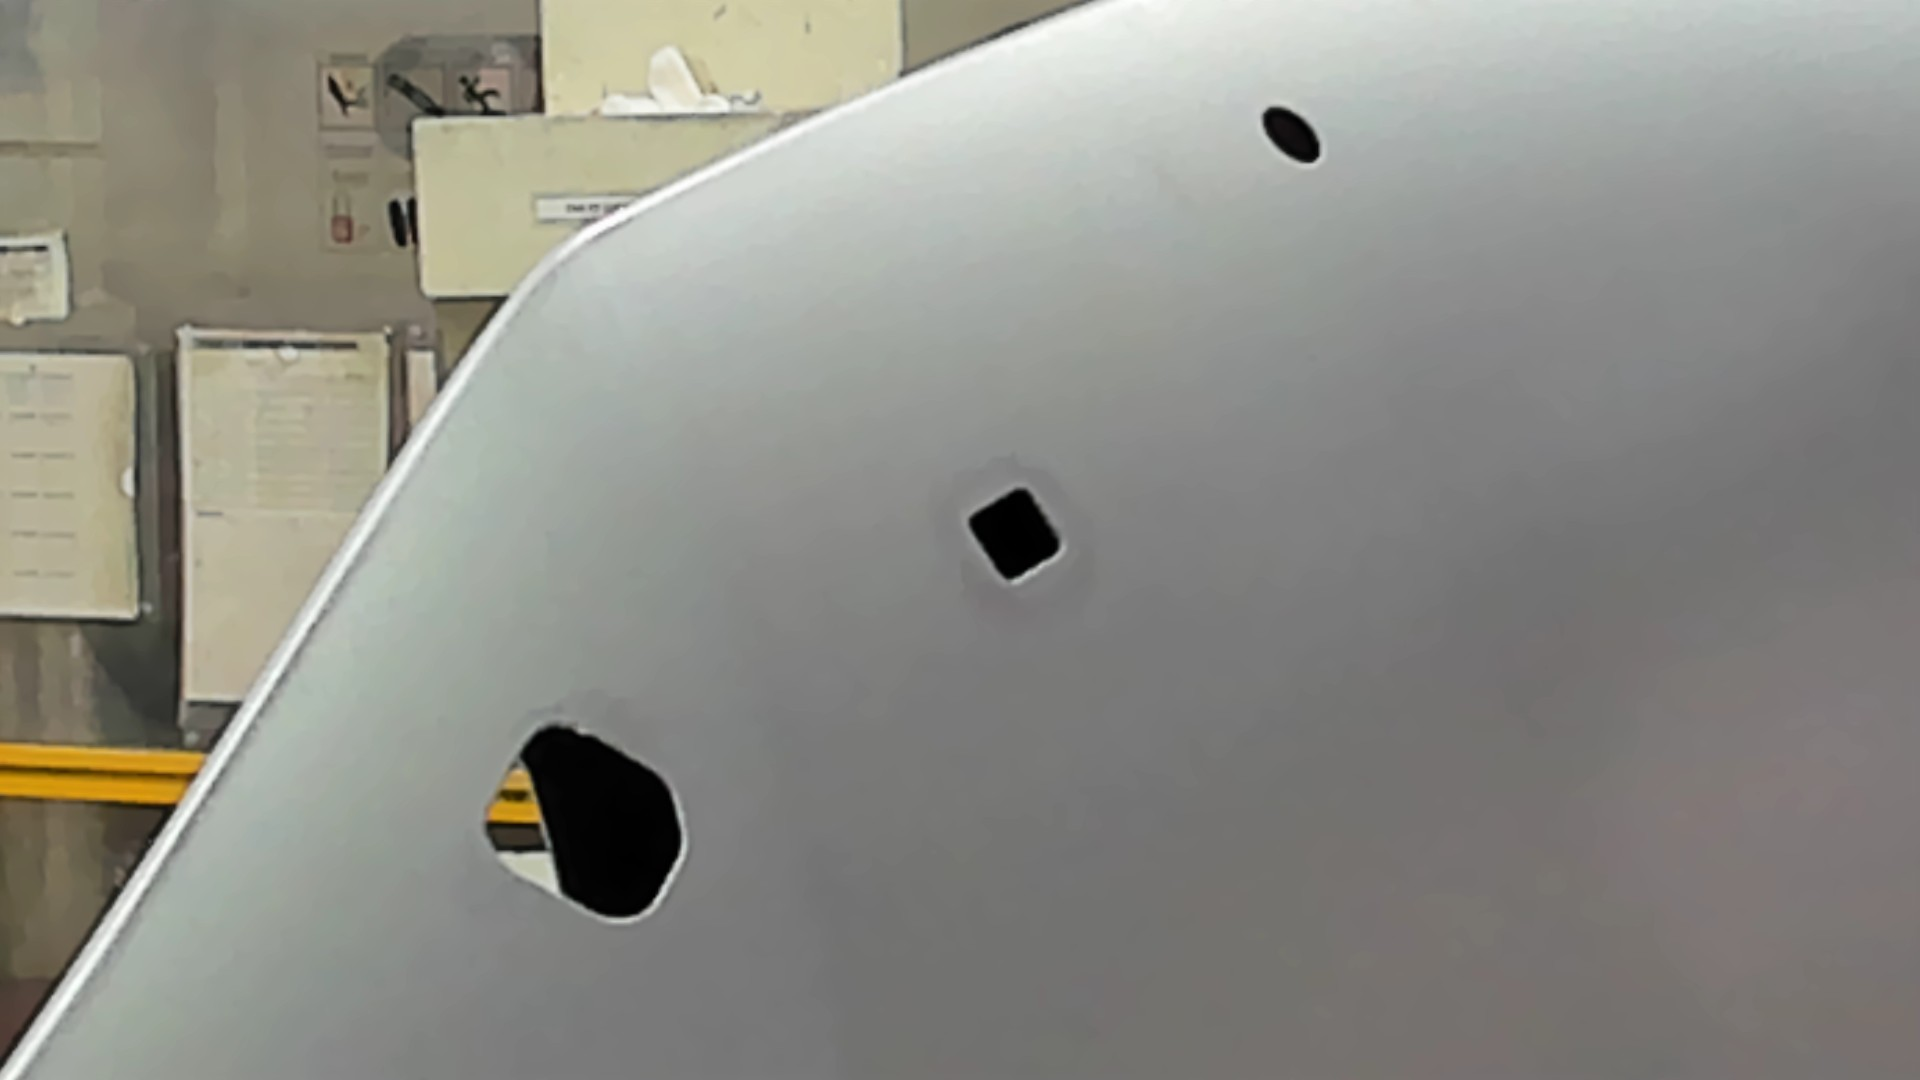chico: (1255, 99, 1328, 171)
grande: (477, 717, 696, 931)
mediano: (961, 477, 1069, 593)
